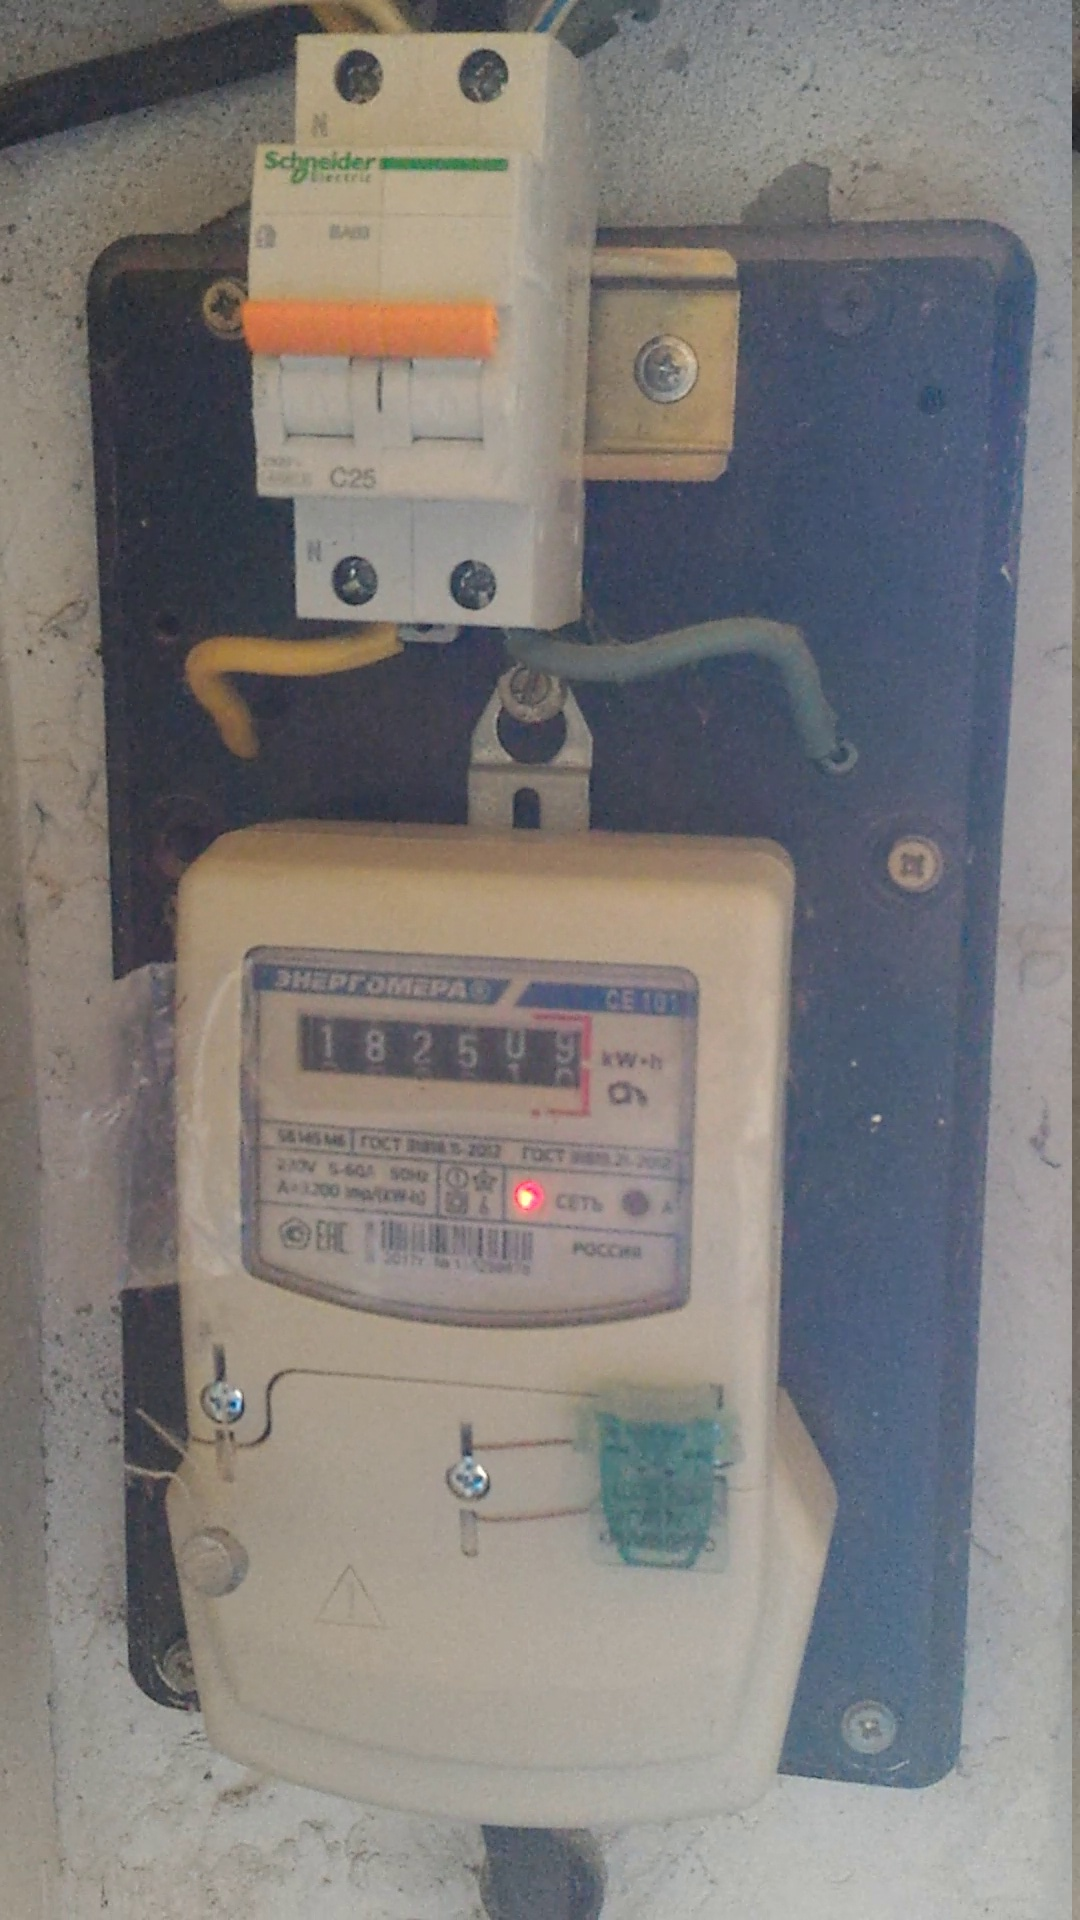counter: (175, 866, 774, 1808)
counter_screen: (291, 1007, 588, 1093)
